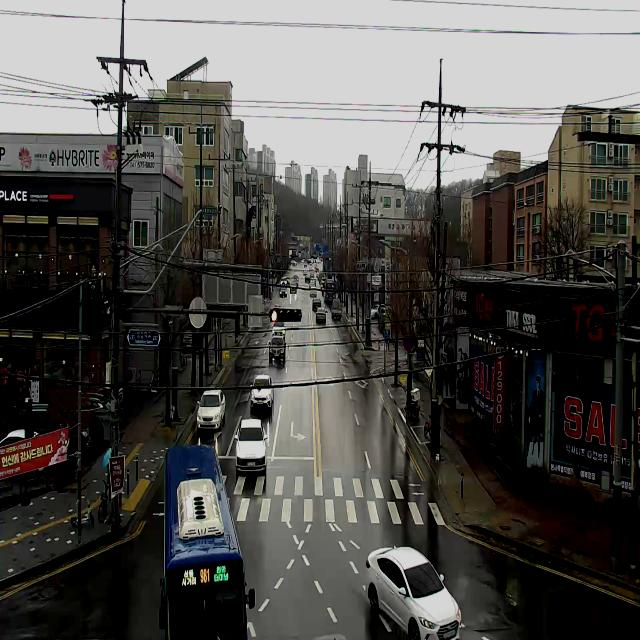Bus: (159, 445, 255, 640), (324, 279, 335, 302)
Car: (366, 544, 461, 640), (12, 412, 92, 460), (0, 429, 45, 478), (234, 418, 268, 473), (74, 392, 110, 442), (196, 390, 226, 430), (250, 374, 274, 411), (268, 336, 286, 362), (372, 304, 386, 319), (272, 322, 286, 337), (316, 308, 326, 322), (183, 331, 192, 346), (312, 298, 322, 310), (292, 275, 299, 287), (280, 288, 288, 298), (290, 282, 297, 293), (310, 286, 316, 298), (309, 280, 315, 288), (320, 277, 326, 285), (290, 260, 298, 266), (305, 275, 310, 283), (280, 279, 287, 284), (286, 277, 290, 285), (310, 271, 314, 278), (303, 269, 307, 276), (321, 281, 324, 290), (304, 261, 307, 267)
Truck: (332, 298, 341, 318)
